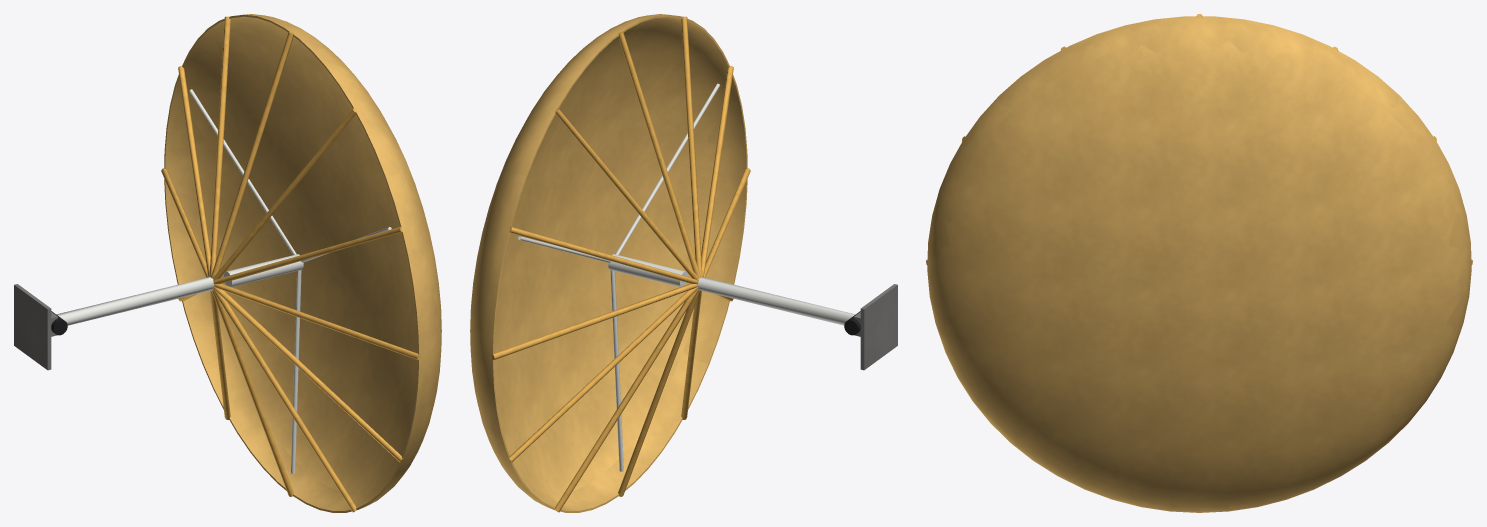
File: power16_mesh_antenna_l_deployed.glb
The picture shows the model from 3 angles, left to right: view 1: azimuth 30°, elevation 25°; view 2: azimuth 150°, elevation 25°; view 3: azimuth 270°, elevation 25°; orthographic projection. The views are drawn at different scales.
Parts seen in each view (by area): view 1: dish_mesh, dish_ribs, feed, mount, boom; view 2: dish_mesh, dish_ribs, feed, mount, boom; view 3: dish_mesh.
Boxes of the visible parts, bbox=[...] form: dish_mesh: bbox=[164, 14, 441, 512]; dish_ribs: bbox=[161, 16, 420, 512]; feed: bbox=[189, 89, 391, 473]; mount: bbox=[14, 284, 57, 370]; boom: bbox=[56, 277, 214, 325]; dish_mesh: bbox=[470, 14, 747, 512]; dish_ribs: bbox=[491, 16, 750, 512]; feed: bbox=[518, 83, 720, 471]; mount: bbox=[854, 284, 897, 370]; boom: bbox=[697, 277, 855, 325]; dish_mesh: bbox=[927, 16, 1471, 512].
Bounding box in the file's own units: 3.85 × 5.02 × 5.02.
Materials: 5 (3 with a texture image).
